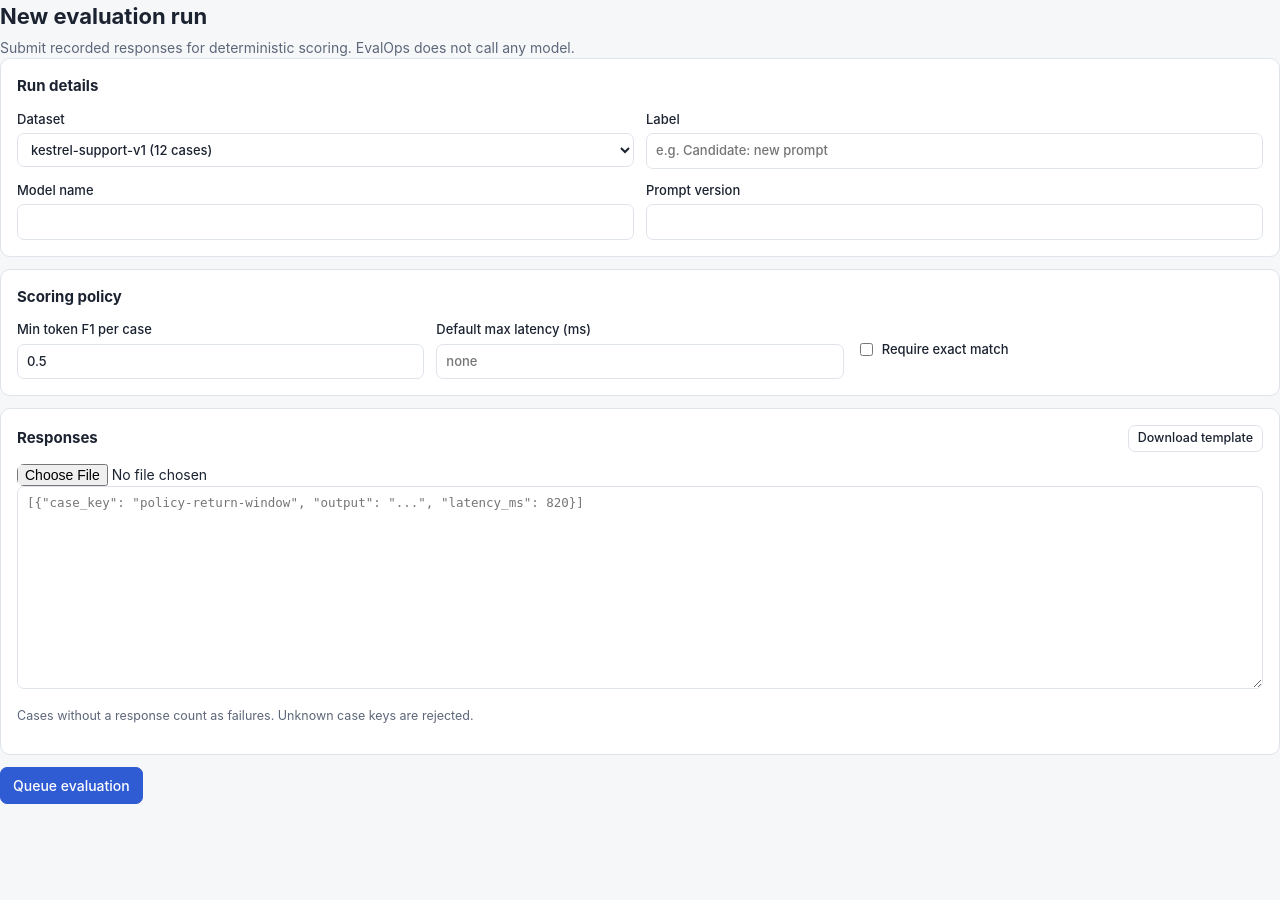
Scenario: NewRun durable job submission › reuses the same key after an uncertain network outcome
The image size is (1280, 900).
Step 1. Type "model-a" into the field labelled "Model name" → point(326, 222), box [17,204,634,240]
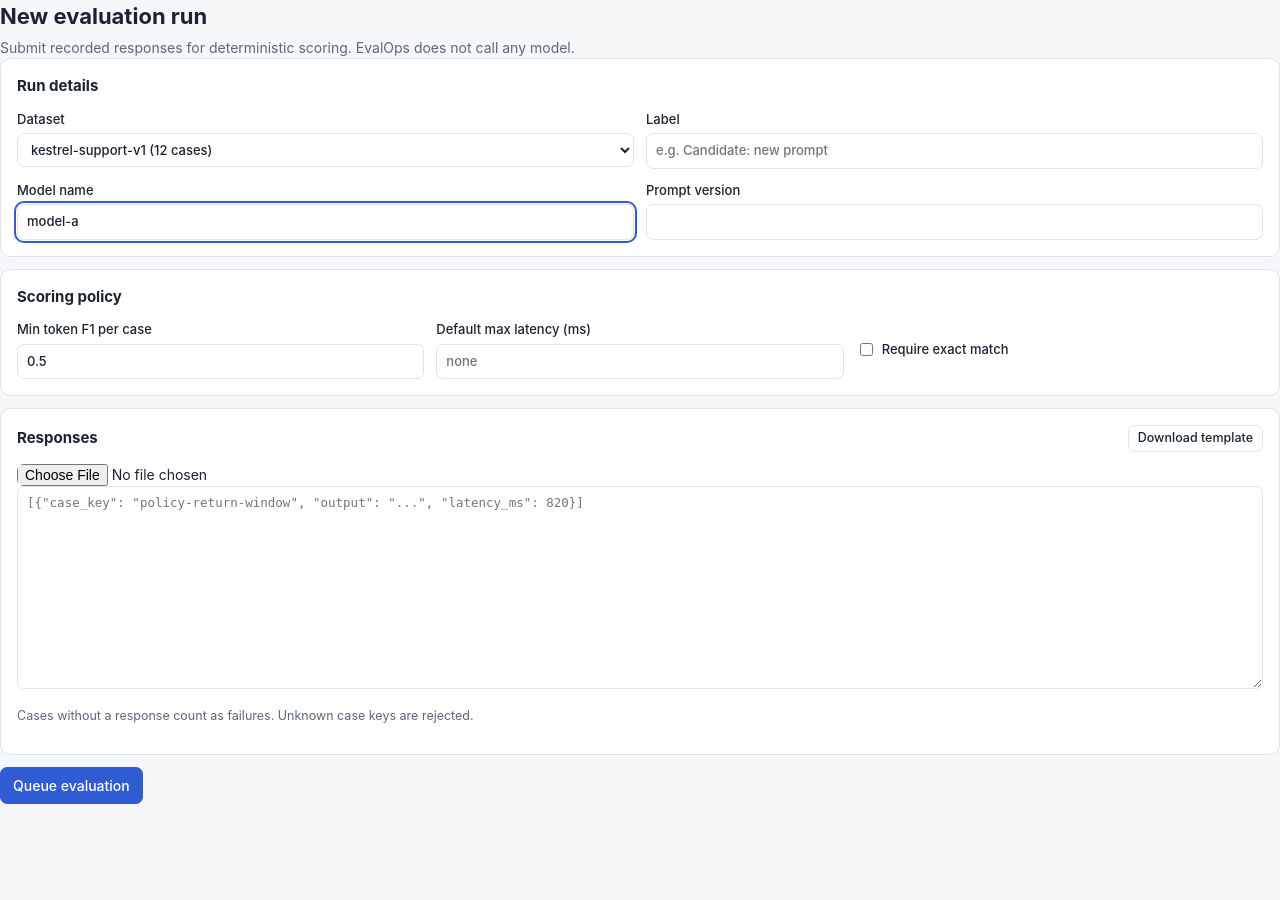
Step 2. Type "prompt-1" into the field labelled "Prompt version" → point(954, 222), box [646,204,1263,240]
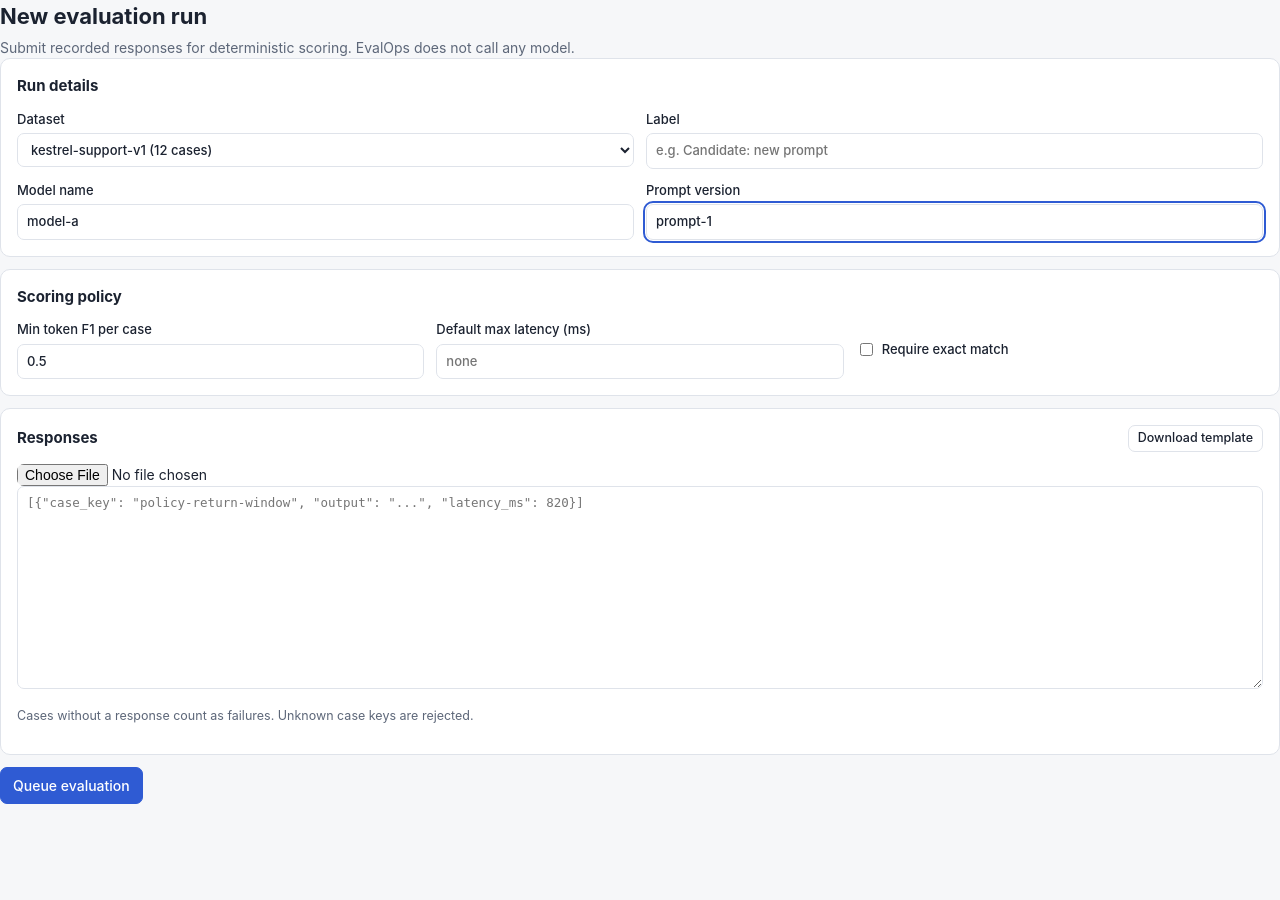
Step 3. Click the text box named "Responses JSON" → point(640, 588), box [17,486,1263,689]
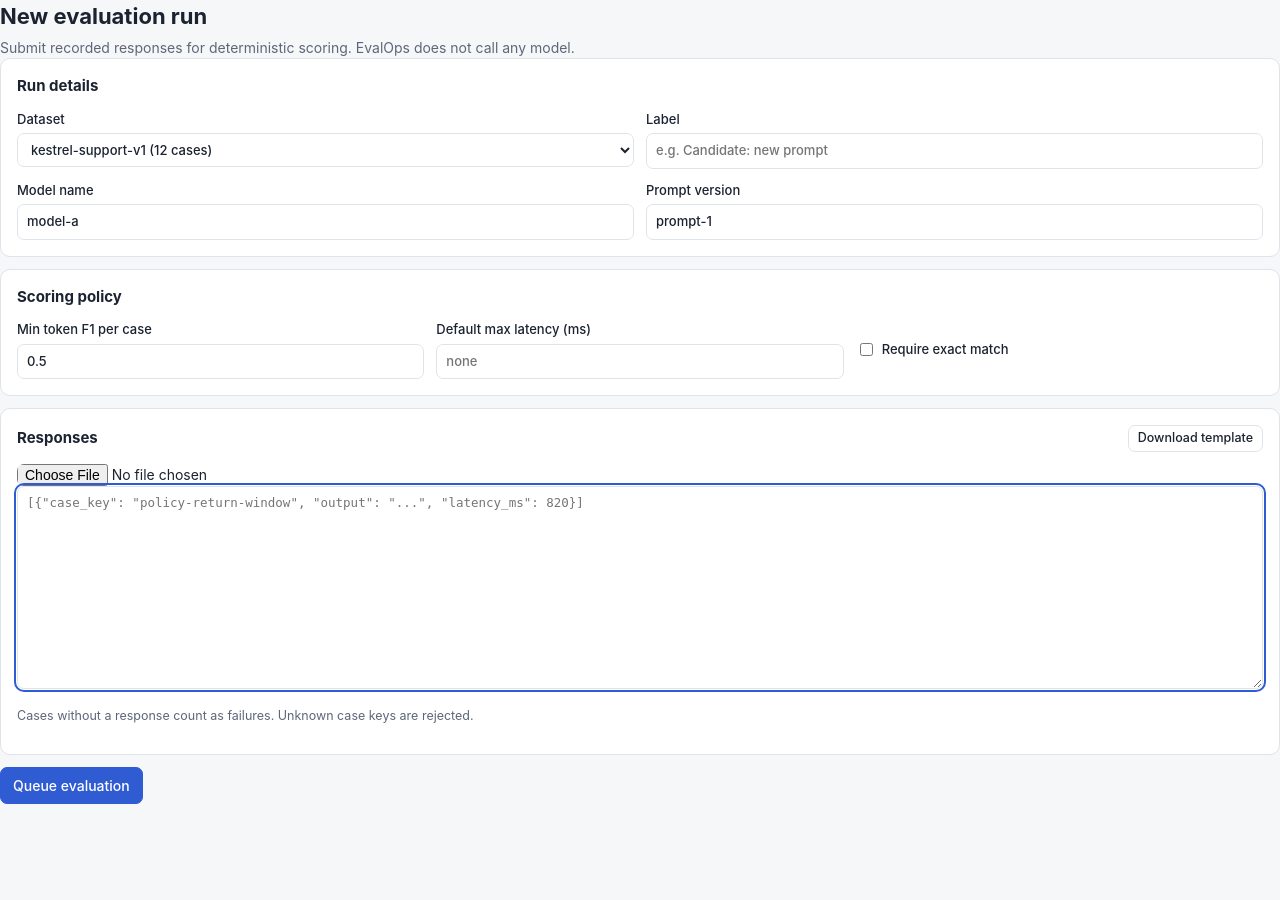
Step 4. Type keys "[{\"case_key\":\"case-1\",\"output\":\"answer\"}]"
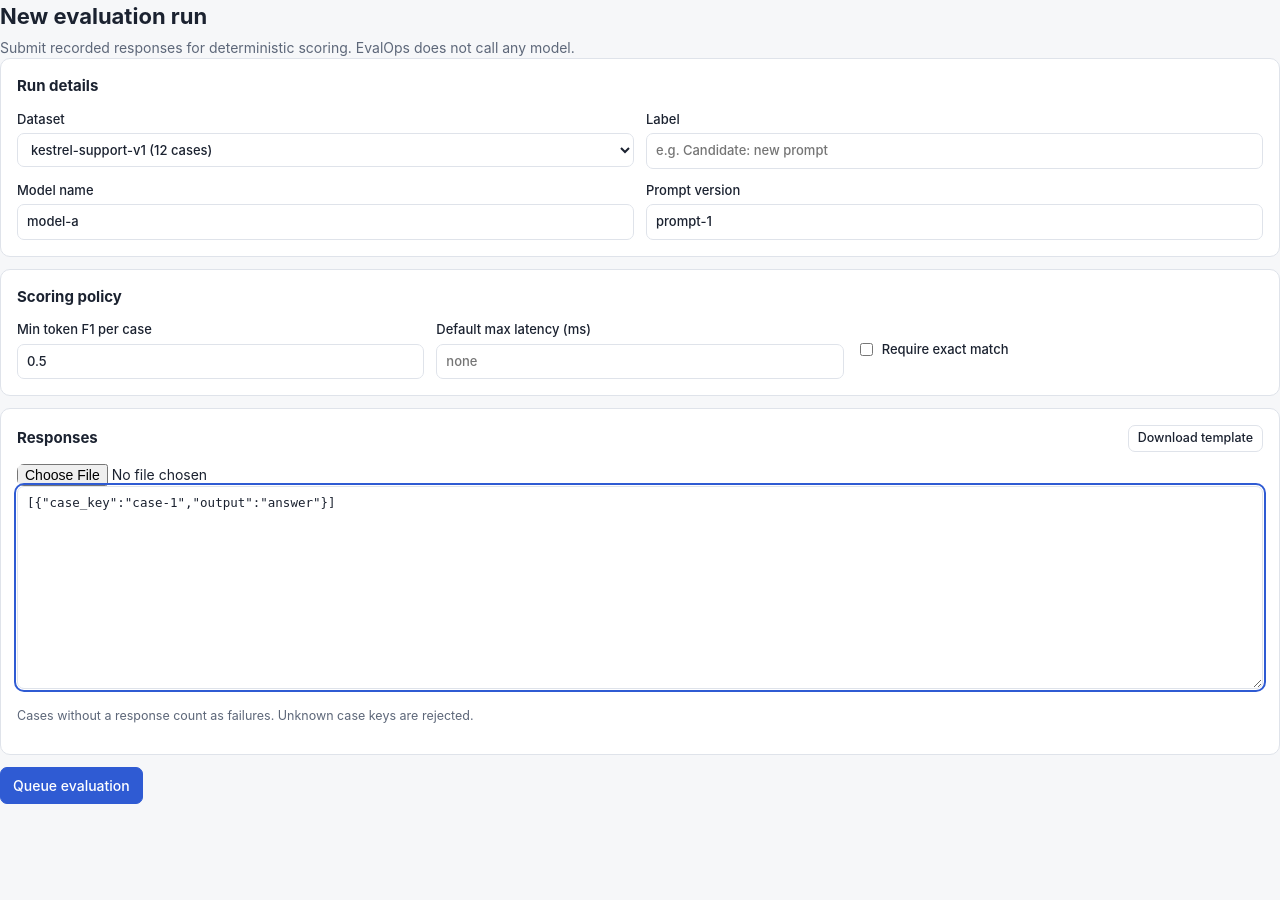
Step 5. Click the button "Queue evaluation" → point(71, 786), box [0,767,143,804]
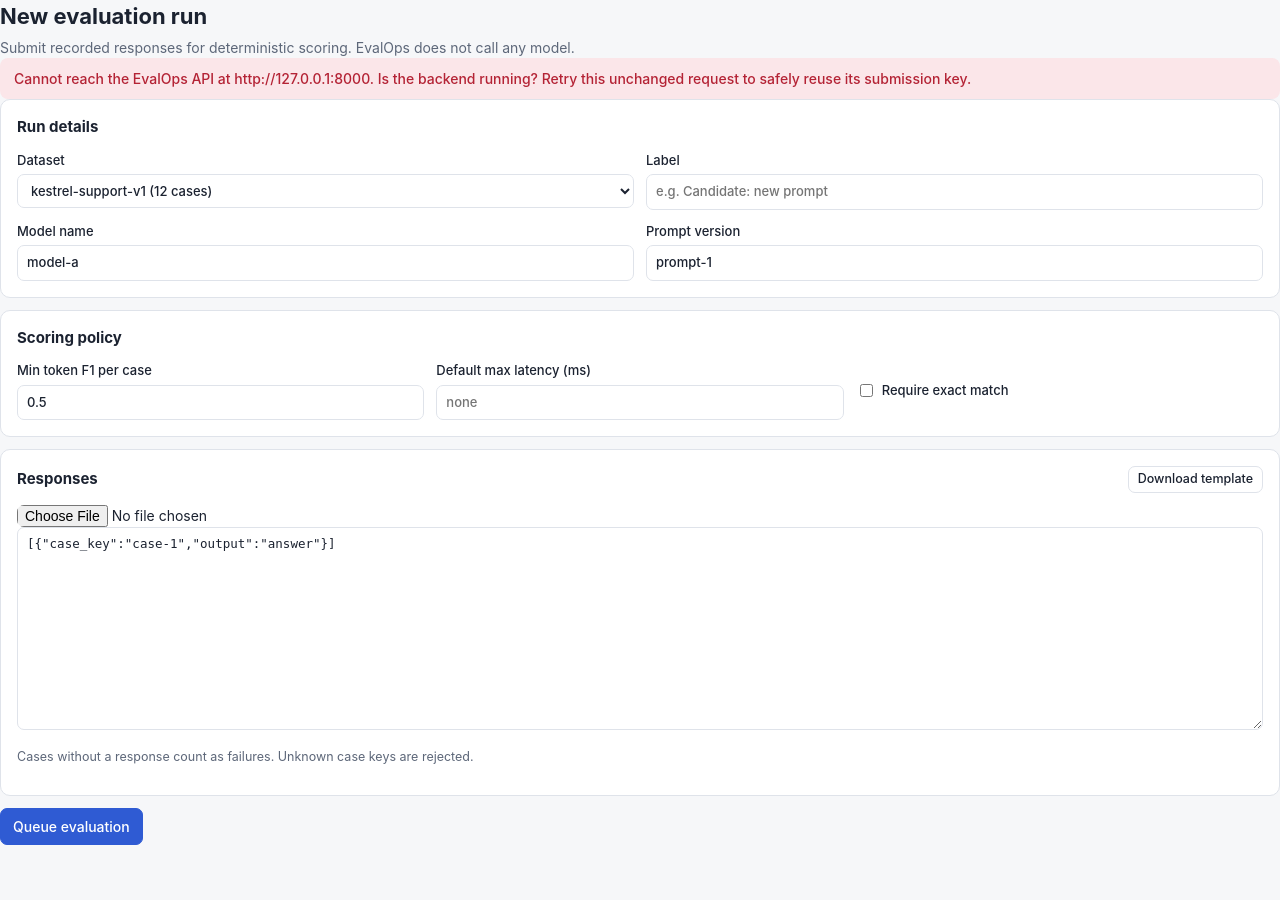
Check: the message shows "reuse its submission key", box [14,70,971,87]
Step 6. Click the button "Queue evaluation" → point(71, 826), box [0,808,143,845]
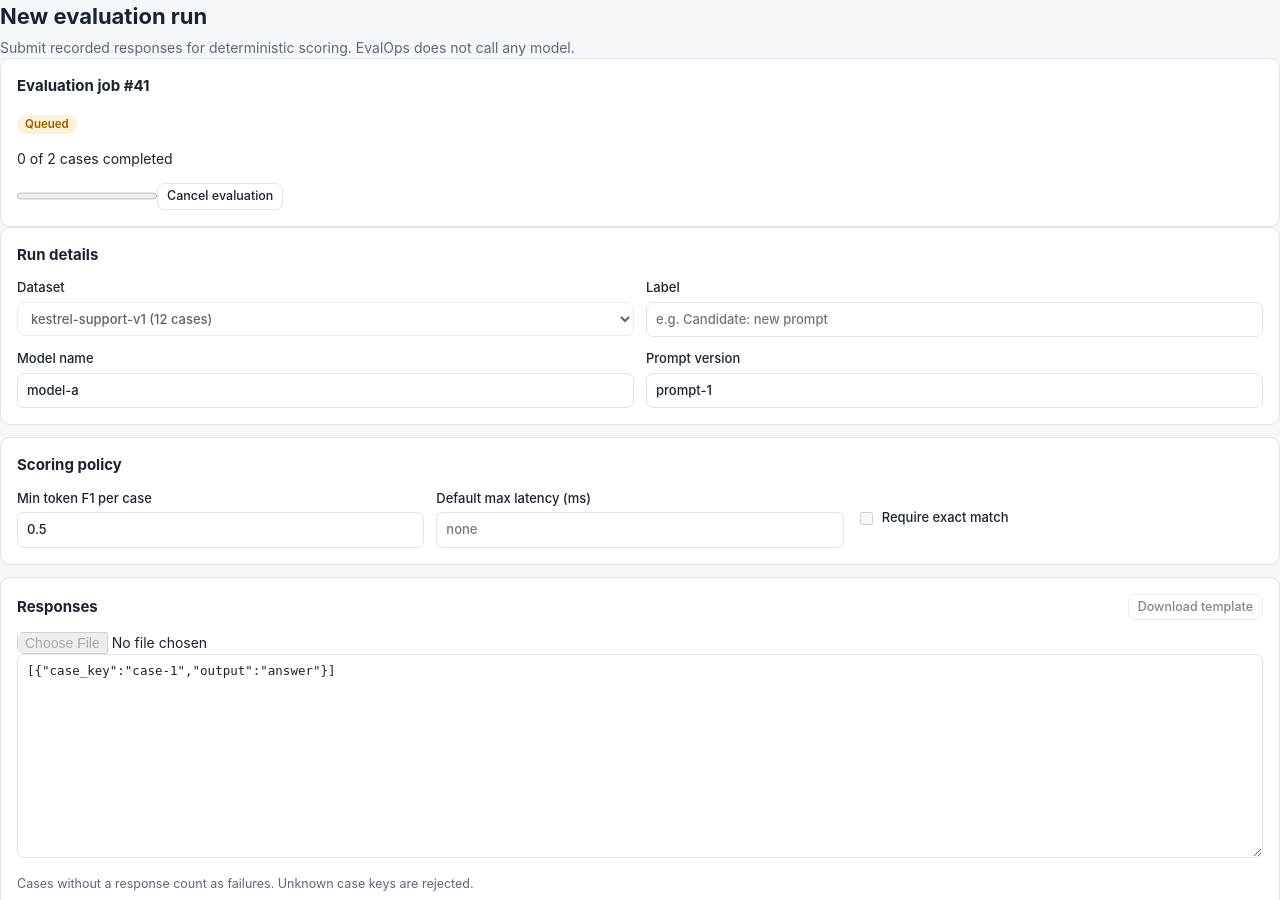
Check: the text "Queued" is shown, box [17,114,77,134]
